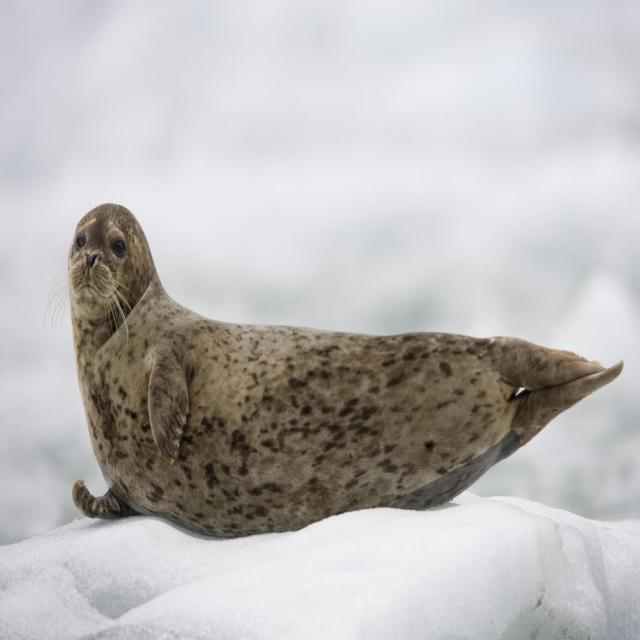WaterDog: (58, 199, 640, 529)
